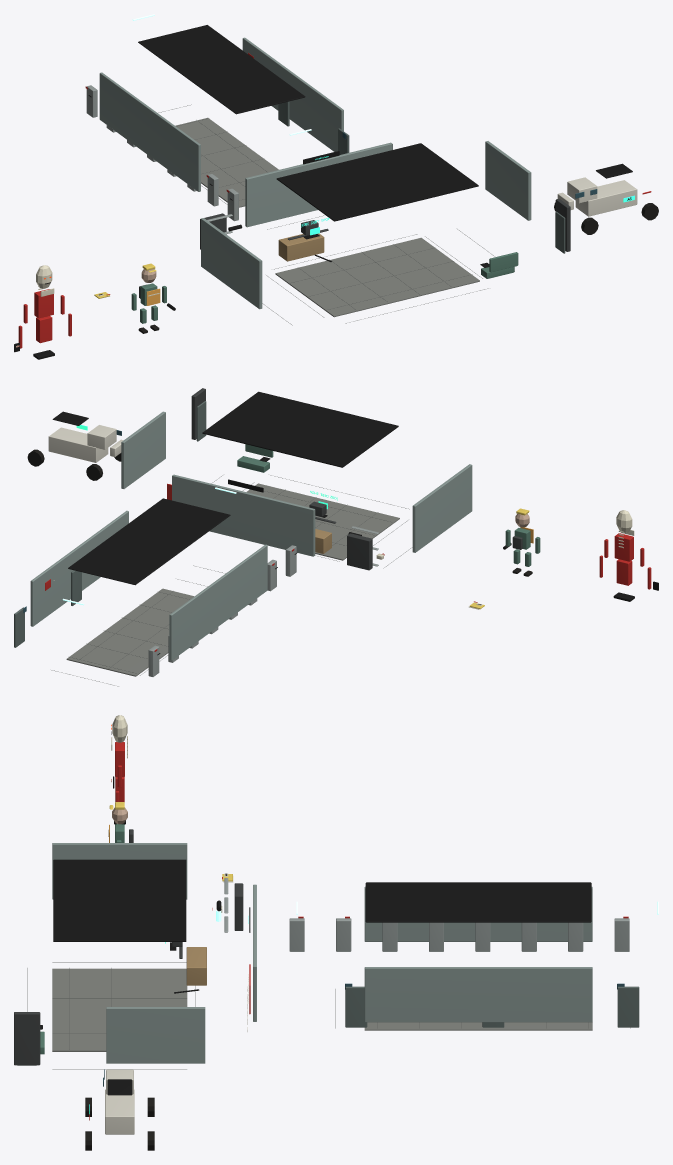
File: accidentsquad_outsourced_civic_horror_v2_showcase.fbx
The picture shows the model from 3 angles, top to bottom: view 1: azimuth 30°, elevation 25°; view 2: azimuth 150°, elevation 25°; view 3: azimuth 270°, elevation 25°; orthographic projection. The views are drawn at different scales.
Parts seen in each view (by area): view 1: hq_floor_base, hq_ceiling_panels, school_ceiling, school_left_wall, school_floor_base, hq_back_wall, hq_left_wall, school_right_wall, hq_right_half_wall, van_main_body, hq_main_desk, van_cabin; view 2: hq_ceiling_panels, school_ceiling, hq_back_wall, school_floor_base, school_left_wall, hq_floor_base, hq_left_wall, school_right_wall, hq_right_half_wall, van_main_body, hq_equipment_shelf, van_cabin (+1 smaller); view 3: school_right_wall, hq_ceiling_panels, school_ceiling, hq_floor_base, hq_right_half_wall, school_left_wall, hq_left_wall, school_floor_base, hq_entry_door_frame, van_main_body, school_classroom_door_2, school_classroom_door_0 (+1 smaller).
Boxes of the visible parts, left/top/right/bottom form: hq_floor_base: left=275, top=237, right=479, bottom=317; hq_ceiling_panels: left=276, top=143, right=478, bottom=221; school_ceiling: left=138, top=25, right=305, bottom=114; school_left_wall: left=99, top=72, right=200, bottom=191; school_floor_base: left=175, top=117, right=278, bottom=207; hq_back_wall: left=245, top=142, right=392, bottom=227; hq_left_wall: left=201, top=218, right=262, bottom=309; school_right_wall: left=242, top=37, right=343, bottom=151; hq_right_half_wall: left=485, top=141, right=531, bottom=220; van_main_body: left=575, top=180, right=637, bottom=216; hq_main_desk: left=278, top=233, right=324, bottom=261; van_cabin: left=567, top=177, right=597, bottom=203; hq_ceiling_panels: left=202, top=391, right=398, bottom=467; school_ceiling: left=68, top=498, right=230, bottom=585; hq_back_wall: left=172, top=474, right=315, bottom=556; school_floor_base: left=66, top=588, right=193, bottom=676; school_left_wall: left=169, top=544, right=267, bottom=660; hq_floor_base: left=246, top=483, right=399, bottom=560; hq_left_wall: left=412, top=464, right=472, bottom=552; school_right_wall: left=30, top=510, right=128, bottom=626; hq_right_half_wall: left=121, top=411, right=165, bottom=488; van_main_body: left=48, top=427, right=108, bottom=462; hq_equipment_shelf: left=347, top=533, right=372, bottom=570; van_cabin: left=87, top=425, right=116, bottom=449; school_right_wall: left=364, top=967, right=592, bottom=1022; hq_ceiling_panels: left=53, top=859, right=186, bottom=941; school_ceiling: left=365, top=882, right=591, bottom=922; hq_floor_base: left=52, top=968, right=187, bottom=1051; hq_right_half_wall: left=106, top=1007, right=205, bottom=1063; school_left_wall: left=364, top=886, right=592, bottom=941; hq_left_wall: left=52, top=843, right=187, bottom=899; school_floor_base: left=364, top=1022, right=592, bottom=1030; hq_entry_door_frame: left=14, top=1012, right=40, bottom=1065; van_main_body: left=105, top=1089, right=134, bottom=1134; school_classroom_door_2: left=617, top=986, right=639, bottom=1027; school_classroom_door_0: left=345, top=986, right=367, bottom=1027.
Size of the model in its own units: 1991 by 290 by 1528.
